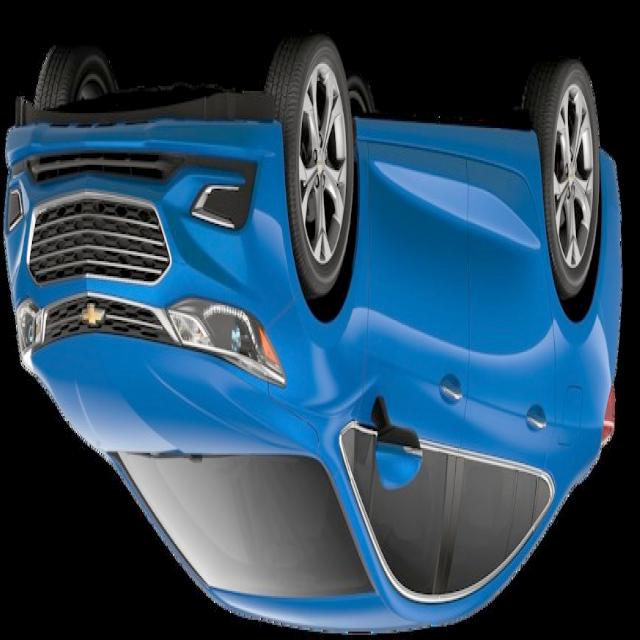blue: (2, 36, 624, 638)
